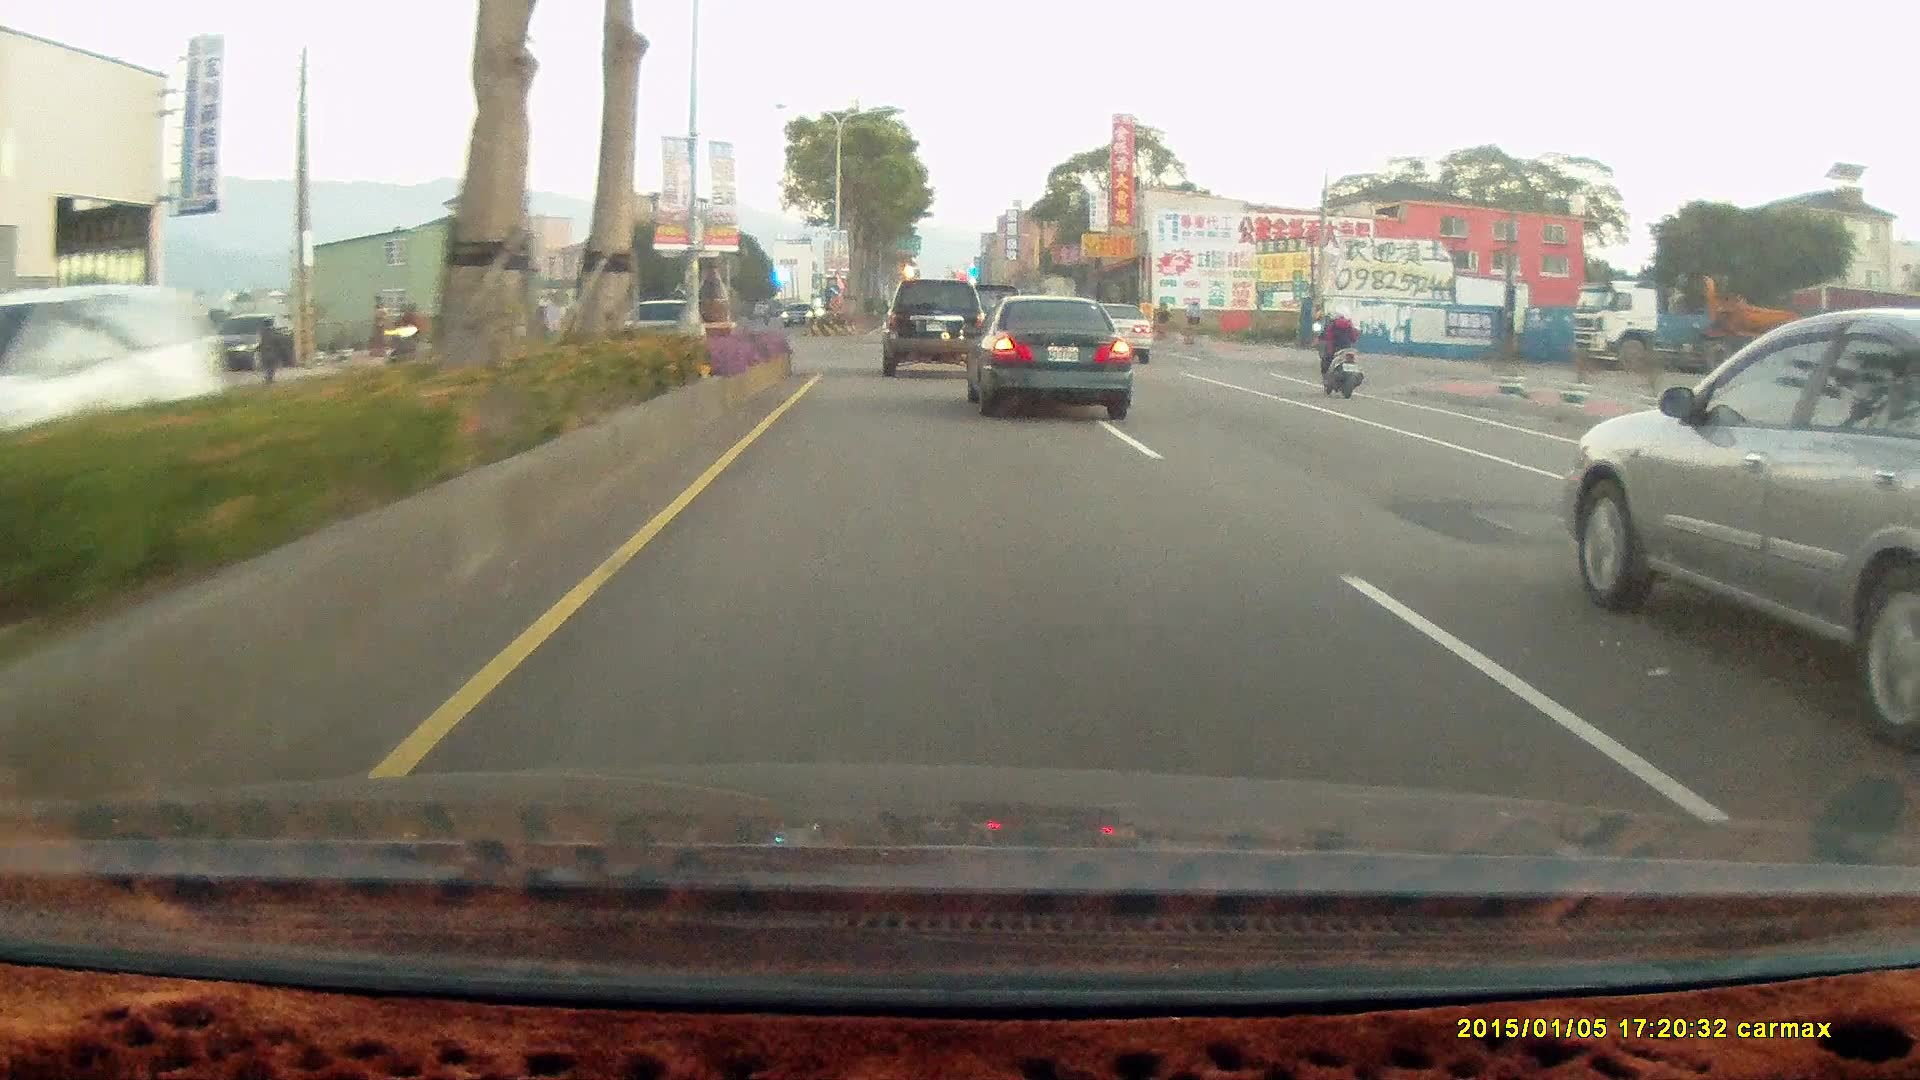pedestrian: (255, 316, 281, 383)
rider: (1304, 296, 1374, 407), (1310, 292, 1366, 388), (378, 298, 430, 377)
vehicle: (1559, 308, 1920, 746), (1, 284, 227, 504), (1, 283, 226, 503), (1568, 275, 1920, 374), (957, 288, 1127, 412), (970, 292, 1136, 414), (880, 274, 990, 374), (879, 277, 984, 378), (614, 297, 709, 363), (191, 312, 290, 369), (1075, 300, 1156, 368), (779, 301, 815, 325)
